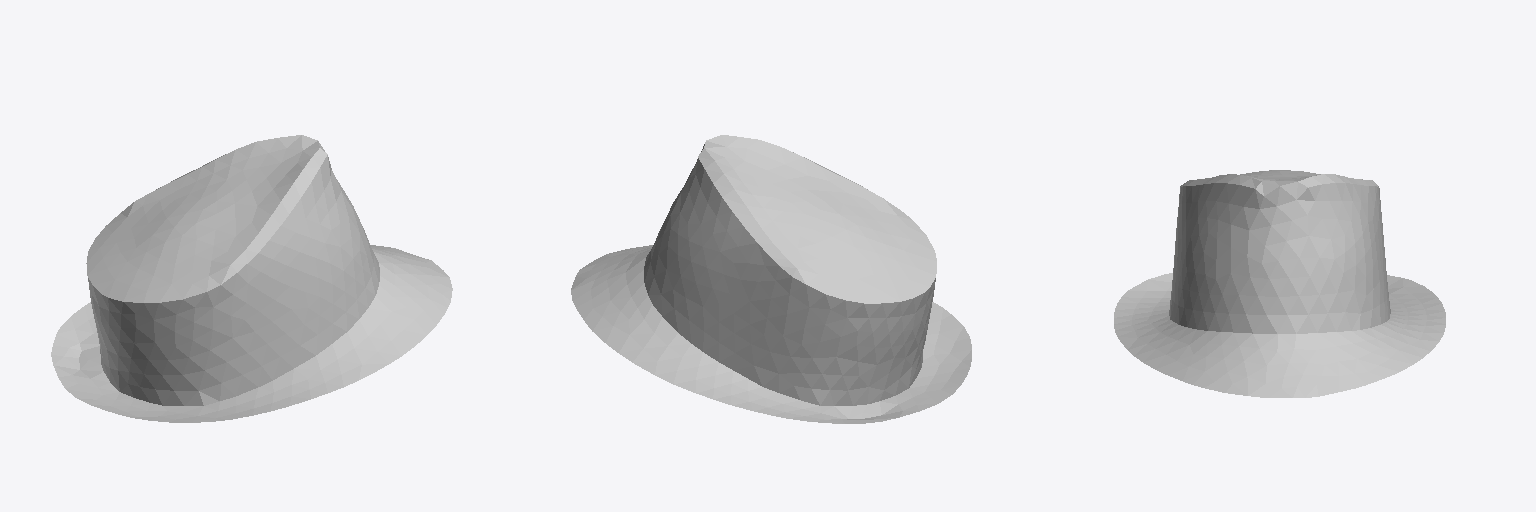
Rendered from agenthat2-579.obj.
3 views of the same model, side by side, from view 1: azimuth 30°, elevation 25°; view 2: azimuth 150°, elevation 25°; view 3: azimuth 270°, elevation 25° (orthographic).
Size of the model in its own units: 70.54 by 37.52 by 55.8.